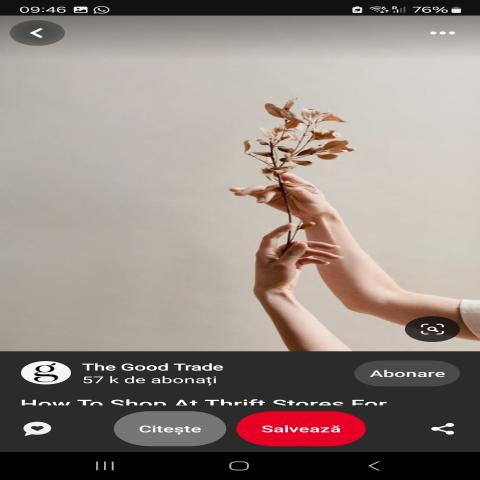hands: (227, 219, 359, 319), (223, 166, 342, 226)
